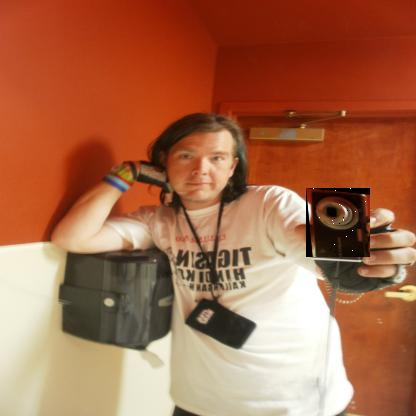Camera: (307, 189, 372, 259)
